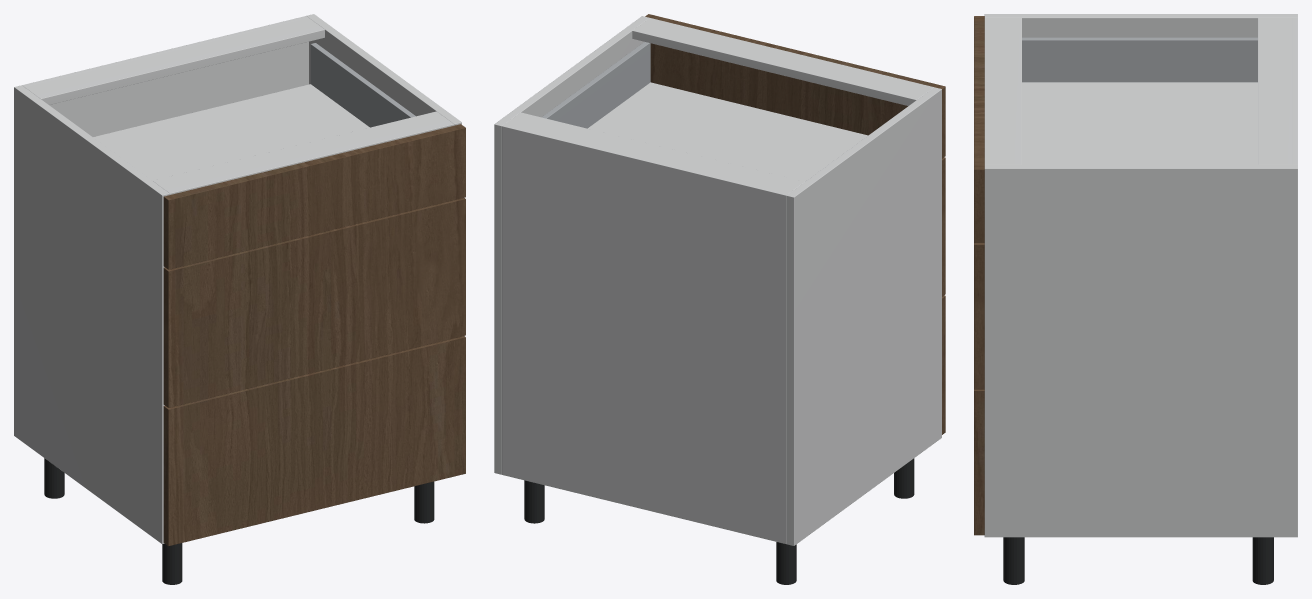
Rendered from oppein-ply-mso-3db27.glb.
3 views of the same model, side by side, from view 1: azimuth 30°, elevation 25°; view 2: azimuth 150°, elevation 25°; view 3: azimuth 270°, elevation 25° (orthographic). The views are drawn at different scales.
Visible parts, largest first — view 1: Cabinet side, Drawer front, Drawer front.001, Drawer front.002, Drawer floor.002, Cabinet back, Top support rail, Top support rail.001, Drawer side.005, Cabinet side.001, Adjustable foot.001, Adjustable foot.003 (+1 smaller); view 2: Cabinet back, Cabinet side, Drawer floor.002, Drawer front.002, Top support rail.001, Cabinet side.001, Top support rail, Drawer side.005, Adjustable foot, Adjustable foot.002, Adjustable foot.001; view 3: Cabinet side.001, Drawer floor.002, Drawer side.004, Cabinet side, Top support rail.001, Top support rail, Drawer front.002, Drawer front, Drawer front.001, Adjustable foot.003, Adjustable foot.002, Cabinet back.
Part boxes in pixels (left/top/right/bottom): Cabinet side: left=14, top=85, right=169, bottom=544; Drawer front: left=163, top=336, right=465, bottom=546; Drawer front.001: left=163, top=198, right=465, bottom=407; Drawer front.002: left=163, top=124, right=465, bottom=269; Drawer floor.002: left=93, top=84, right=369, bottom=180; Cabinet back: left=22, top=16, right=308, bottom=136; Top support rail: left=24, top=18, right=324, bottom=104; Top support rail.001: left=153, top=111, right=454, bottom=194; Drawer side.005: left=310, top=43, right=415, bottom=127; Cabinet side.001: left=306, top=14, right=461, bottom=125; Adjustable foot.001: left=162, top=543, right=182, bottom=584; Adjustable foot.003: left=414, top=481, right=434, bottom=523; Cabinet back: left=502, top=124, right=788, bottom=543; Cabinet side: left=786, top=87, right=941, bottom=545; Drawer floor.002: left=588, top=82, right=867, bottom=181; Drawer front.002: left=645, top=14, right=945, bottom=158; Top support rail.001: left=632, top=18, right=933, bottom=105; Cabinet side.001: left=494, top=16, right=649, bottom=474; Top support rail: left=505, top=112, right=804, bottom=193; Drawer side.005: left=541, top=42, right=650, bottom=128; Adjustable foot: left=776, top=542, right=796, bottom=584; Adjustable foot.002: left=524, top=480, right=544, bottom=523; Adjustable foot.001: left=894, top=458, right=914, bottom=498; Cabinet side.001: left=984, top=164, right=1297, bottom=537; Drawer floor.002: left=1022, top=82, right=1257, bottom=164; Drawer side.004: left=1022, top=37, right=1257, bottom=82; Cabinet side: left=984, top=14, right=1297, bottom=37; Top support rail.001: left=984, top=18, right=1021, bottom=164; Top support rail: left=1258, top=18, right=1291, bottom=164; Drawer front.002: left=974, top=16, right=984, bottom=242; Drawer front: left=974, top=389, right=984, bottom=535; Drawer front.001: left=974, top=243, right=984, bottom=389; Adjustable foot.003: left=1003, top=537, right=1024, bottom=584; Adjustable foot.002: left=1252, top=537, right=1273, bottom=584; Cabinet back: left=1292, top=18, right=1297, bottom=164.
Bounding box in the file's own units: 0.6858 × 0.8763 × 0.6064.
4 materials, 1 textured.
